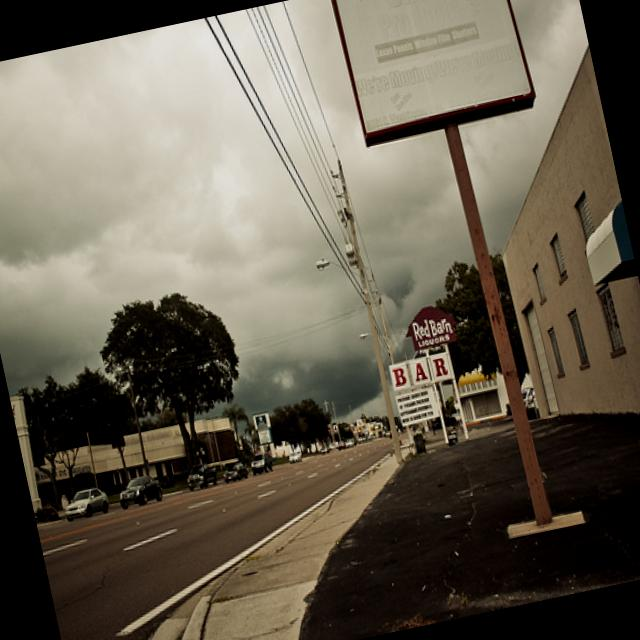Vehicle: (116, 471, 164, 509), (62, 486, 111, 522), (248, 450, 275, 476), (220, 461, 248, 483), (344, 436, 356, 448), (288, 452, 302, 462), (336, 439, 346, 451), (320, 448, 330, 456)
